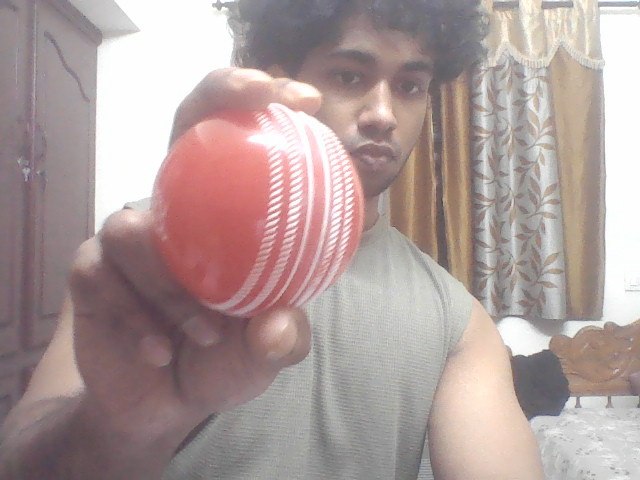cricket_ball: (146, 105, 367, 324)
